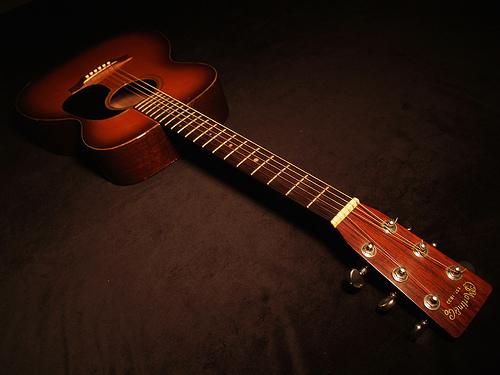guitar: (16, 28, 495, 345)
